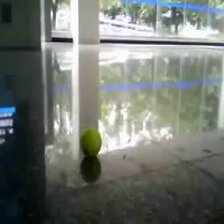tennis: (80, 126, 102, 157)
